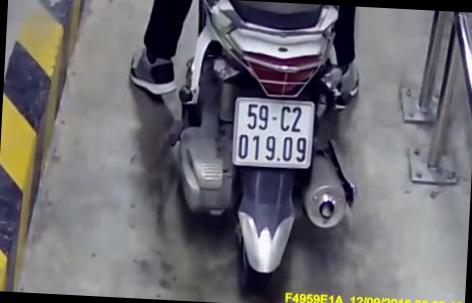LP: (231, 96, 314, 170)
